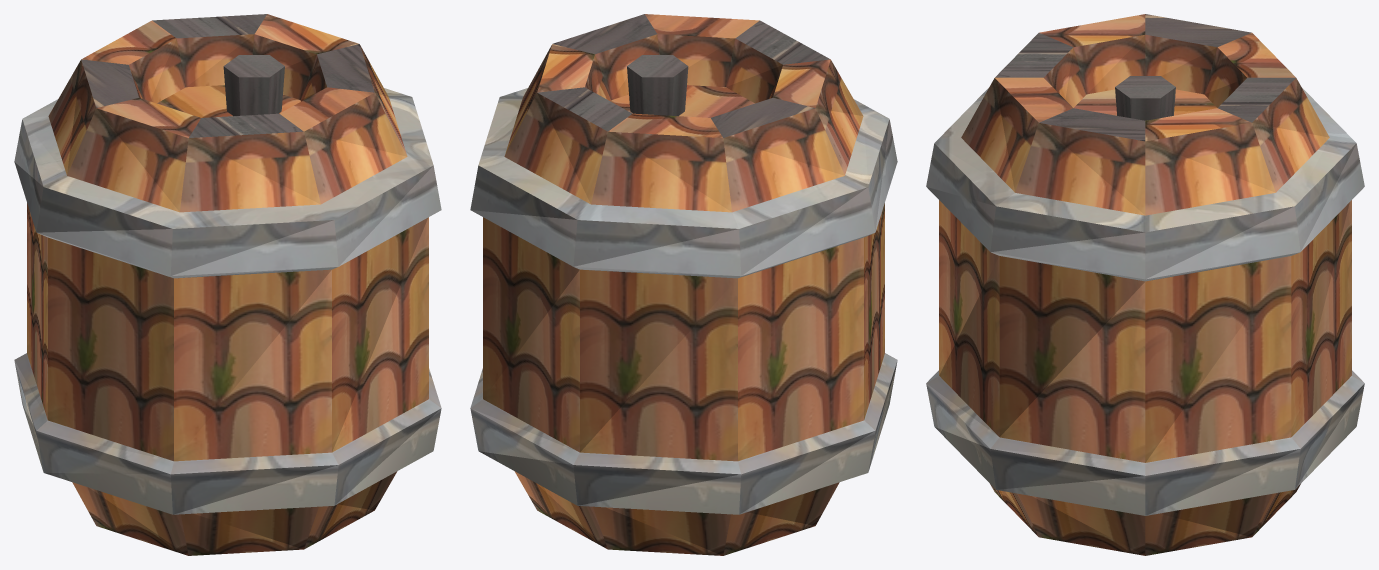
File: barrel.gltf
The picture shows the model from 3 angles, left to right: view 1: azimuth 30°, elevation 25°; view 2: azimuth 150°, elevation 25°; view 3: azimuth 270°, elevation 25°; orthographic projection.
Parts seen in each view (by area): view 1: barrel; view 2: barrel; view 3: barrel.
Part boxes in pixels (x1=…): barrel: x1=14, y1=14, x2=441, y2=555; barrel: x1=470, y1=14, x2=897, y2=555; barrel: x1=926, y1=14, x2=1364, y2=555.
Bounding box in the file's own units: 0.2015 × 0.2117 × 0.2015.
Materials: 3 (3 with a texture image).
